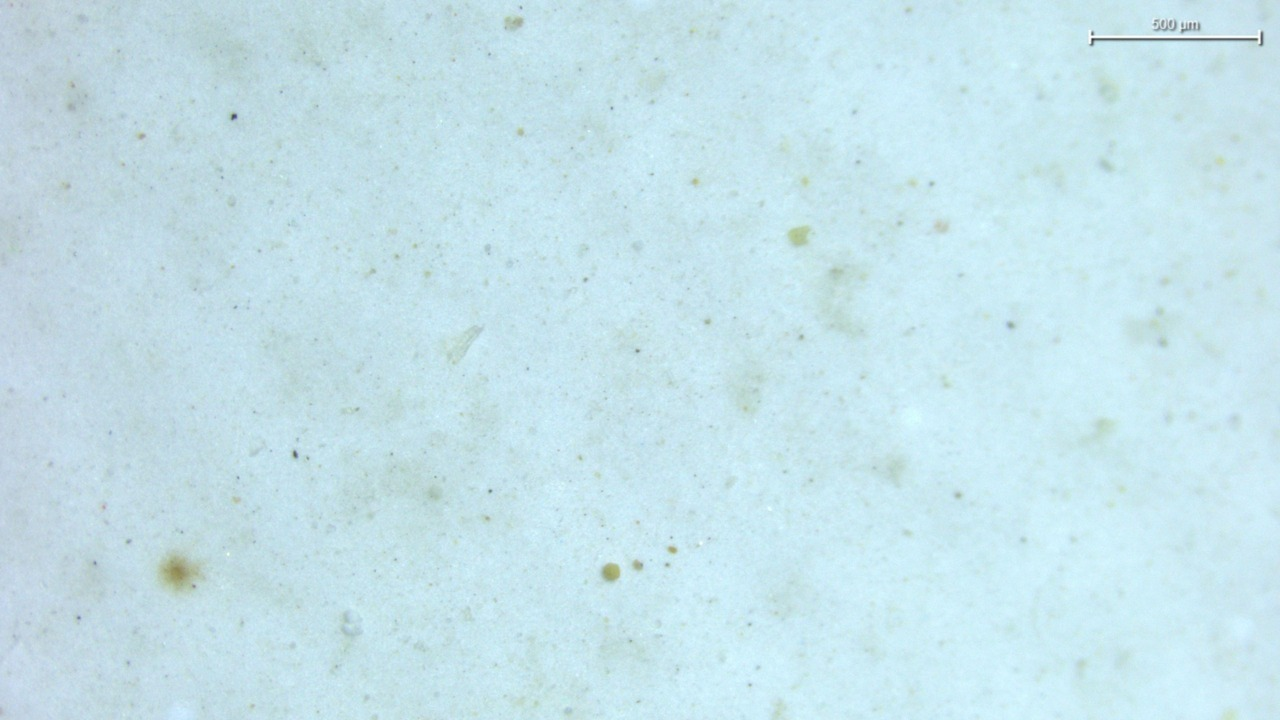microplastic_fragment: (445, 325, 483, 365)
